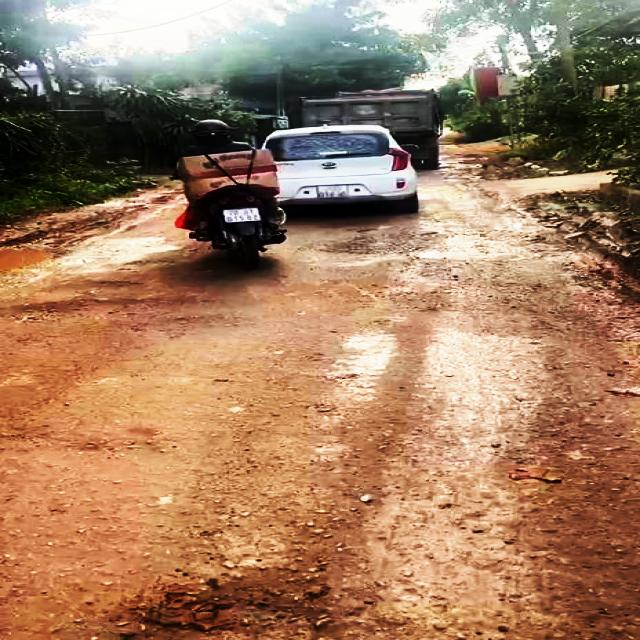pothole: (326, 230, 554, 263), (0, 241, 77, 282)
